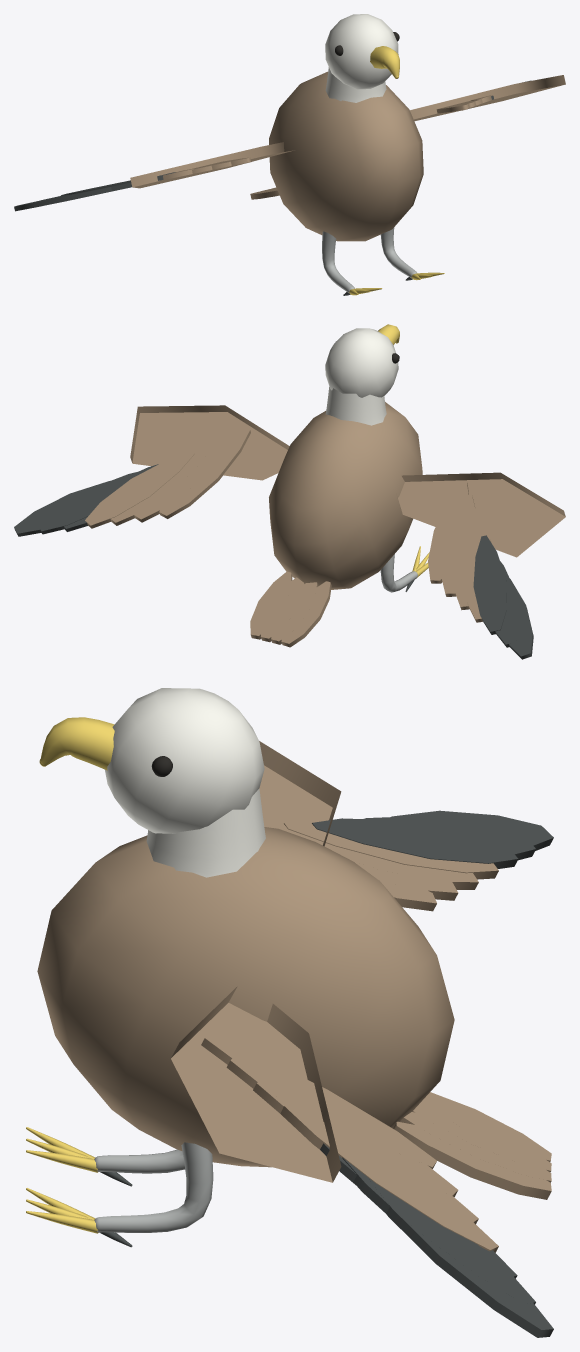
The model's file is birds-and-flying-creatures-bald-eagle-wings-spread-5055cc5f__20643.glb.
3 renders of one model, top to bottom at view 1: azimuth 30°, elevation 25°; view 2: azimuth 150°, elevation 25°; view 3: azimuth 270°, elevation 25°, orthographic. The views are drawn at different scales.
Parts seen in each view (by area): view 1: bald-eagle-wings-spread; view 2: bald-eagle-wings-spread; view 3: bald-eagle-wings-spread.
Part boxes in pixels (box(x1,y1,x2,y2)): bald-eagle-wings-spread: box(14, 14, 565, 295); bald-eagle-wings-spread: box(14, 324, 565, 659); bald-eagle-wings-spread: box(26, 688, 553, 1337).
Bounding box in the file's own units: 1.79 × 0.8679 × 0.7923.
